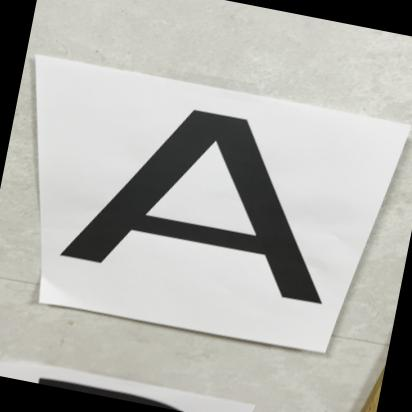seat: (59, 83, 379, 326)
